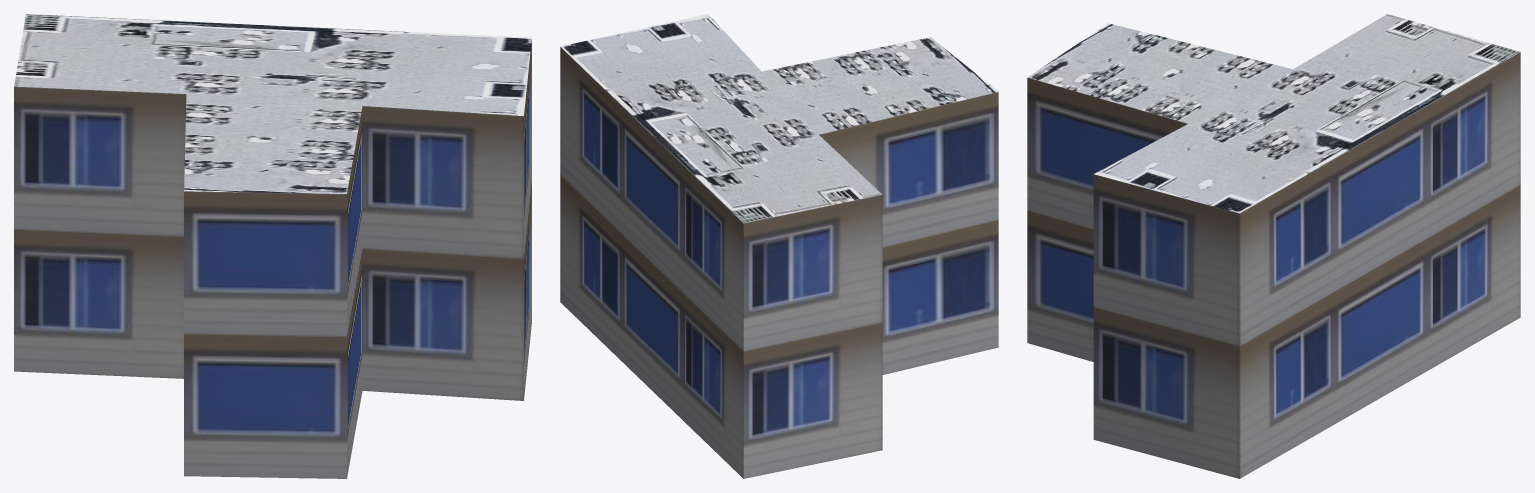
The model's file is ResTex__4841.fbx.
The picture shows the model from 3 angles, left to right: view 1: azimuth 30°, elevation 25°; view 2: azimuth 150°, elevation 25°; view 3: azimuth 270°, elevation 25°; orthographic projection. The views are drawn at different scales.
Visible parts, largest first — view 1: CityEngineMaterial_23_m, CityEngineMaterial_8_m; view 2: CityEngineMaterial_23_m, CityEngineMaterial_8_m; view 3: CityEngineMaterial_23_m, CityEngineMaterial_8_m.
Boxes of the visible parts, <box> form: CityEngineMaterial_23_m: <box>14,39,531,478</box>; CityEngineMaterial_8_m: <box>14,14,531,193</box>; CityEngineMaterial_23_m: <box>560,47,998,478</box>; CityEngineMaterial_8_m: <box>560,14,998,223</box>; CityEngineMaterial_23_m: <box>1027,52,1520,478</box>; CityEngineMaterial_8_m: <box>1027,14,1520,213</box>.
Size of the model in its own units: 9.67 by 6 by 10.11.
2 materials, 2 textured.
